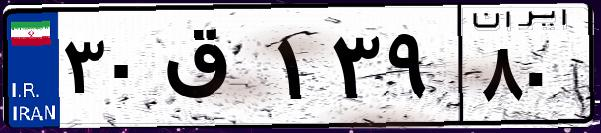0: (525, 38, 570, 115), (110, 28, 158, 98)
1: (270, 28, 330, 110)
3: (330, 28, 385, 110), (57, 26, 110, 100)
8: (475, 38, 525, 113)
9: (385, 28, 445, 110)
ق: (158, 20, 270, 120)
